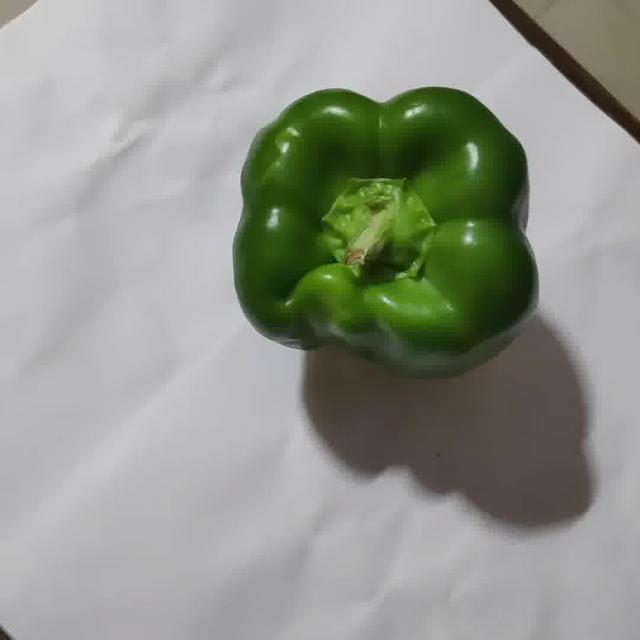Bell Pepper: (233, 88, 537, 376)
